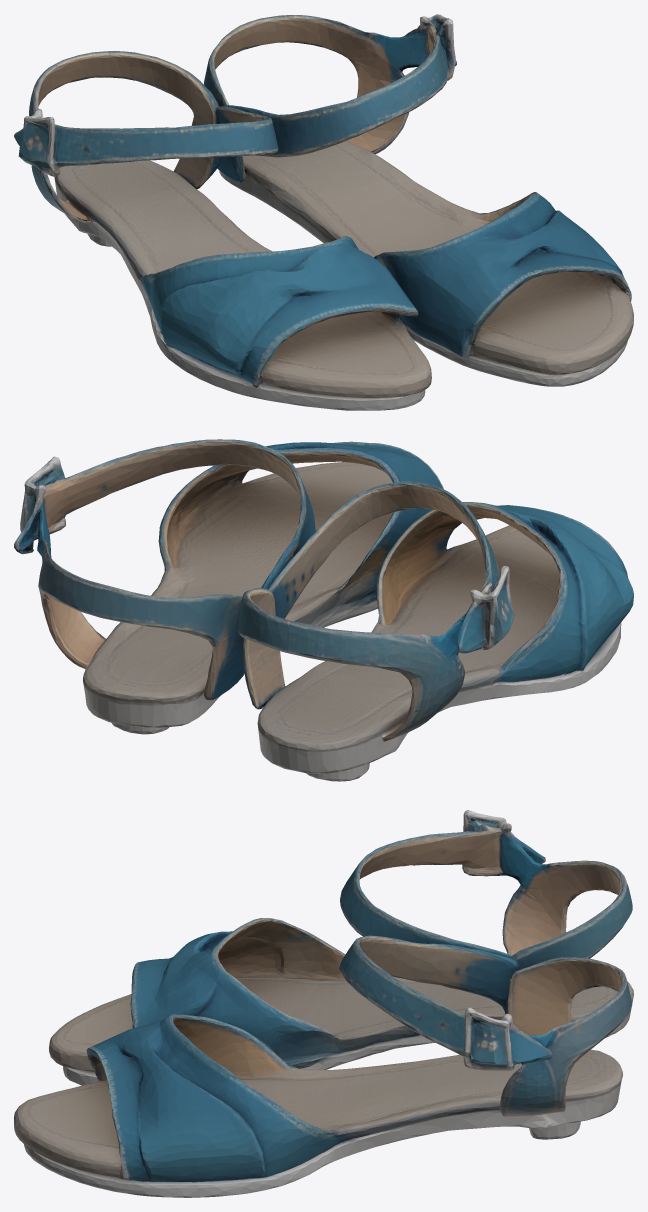
File: 1-never.glb
3 renders of one model, top to bottom at view 1: azimuth 30°, elevation 25°; view 2: azimuth 150°, elevation 25°; view 3: azimuth 270°, elevation 25°, orthographic. The views are drawn at different scales.
Parts seen in each view (by area): view 1: world; view 2: world; view 3: world.
Boxes of the visible parts, box(x1,y1,x2,y2) form: world: box(14, 14, 633, 410); world: box(14, 439, 633, 781); world: box(14, 810, 633, 1197).
Bounding box in the file's own units: 0.8092 × 0.3379 × 1.
Materials: 1 (1 with a texture image).
